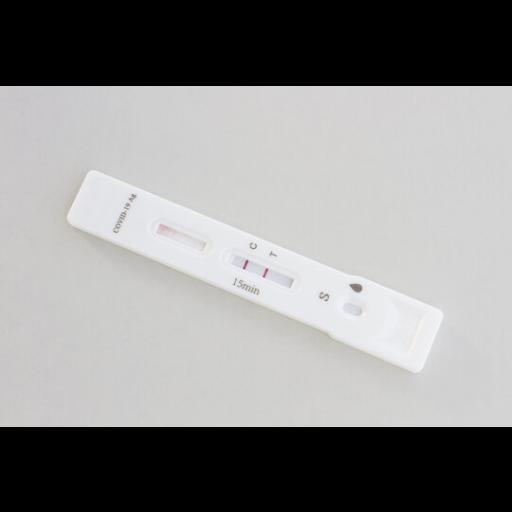Pos: (64, 170, 447, 374)
